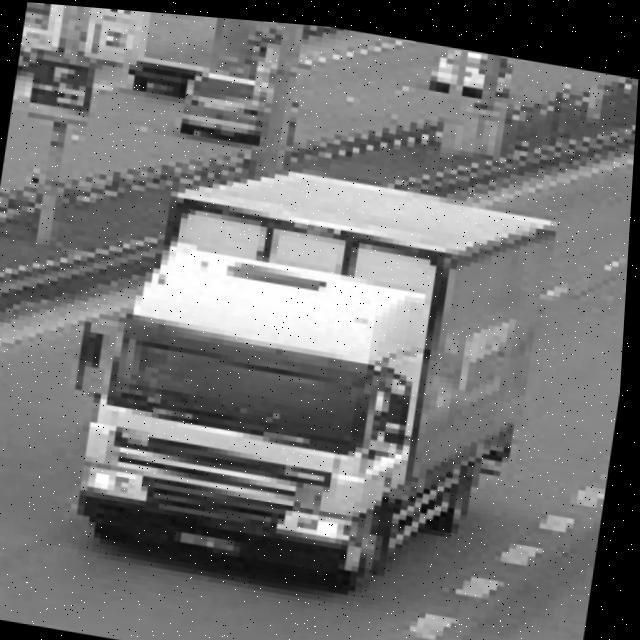truck: (42, 212, 455, 603)
